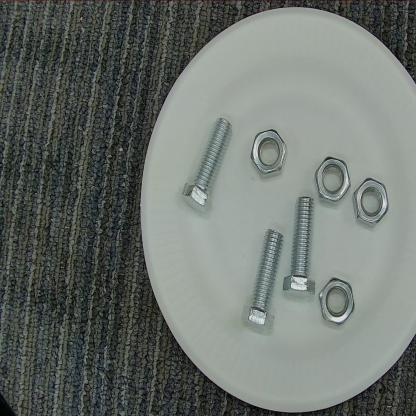FOD: (176, 113, 236, 214), (238, 228, 284, 335), (282, 193, 318, 300), (317, 268, 358, 332), (247, 125, 292, 183), (352, 175, 394, 228), (313, 153, 351, 208)
